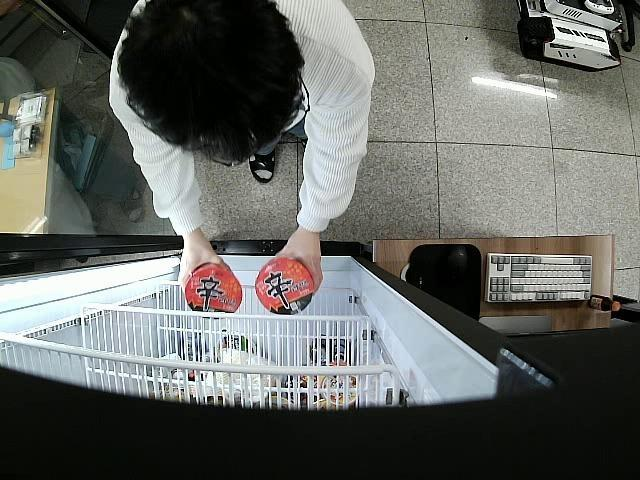01_ShinRamen_L: (185, 258, 242, 319), (256, 259, 313, 316)
